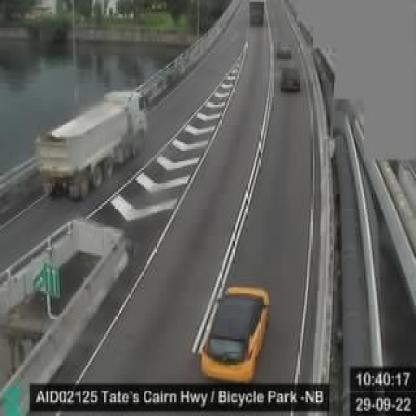Car: (198, 279, 280, 385), (276, 59, 304, 99), (274, 35, 294, 66), (248, 0, 264, 31)
Truck: (34, 73, 149, 220)
